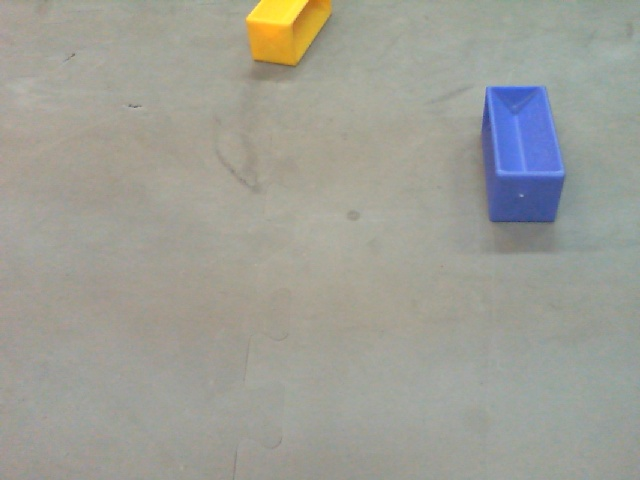BlueSample: (480, 83, 566, 228)
YellowSample: (244, 1, 332, 66)
